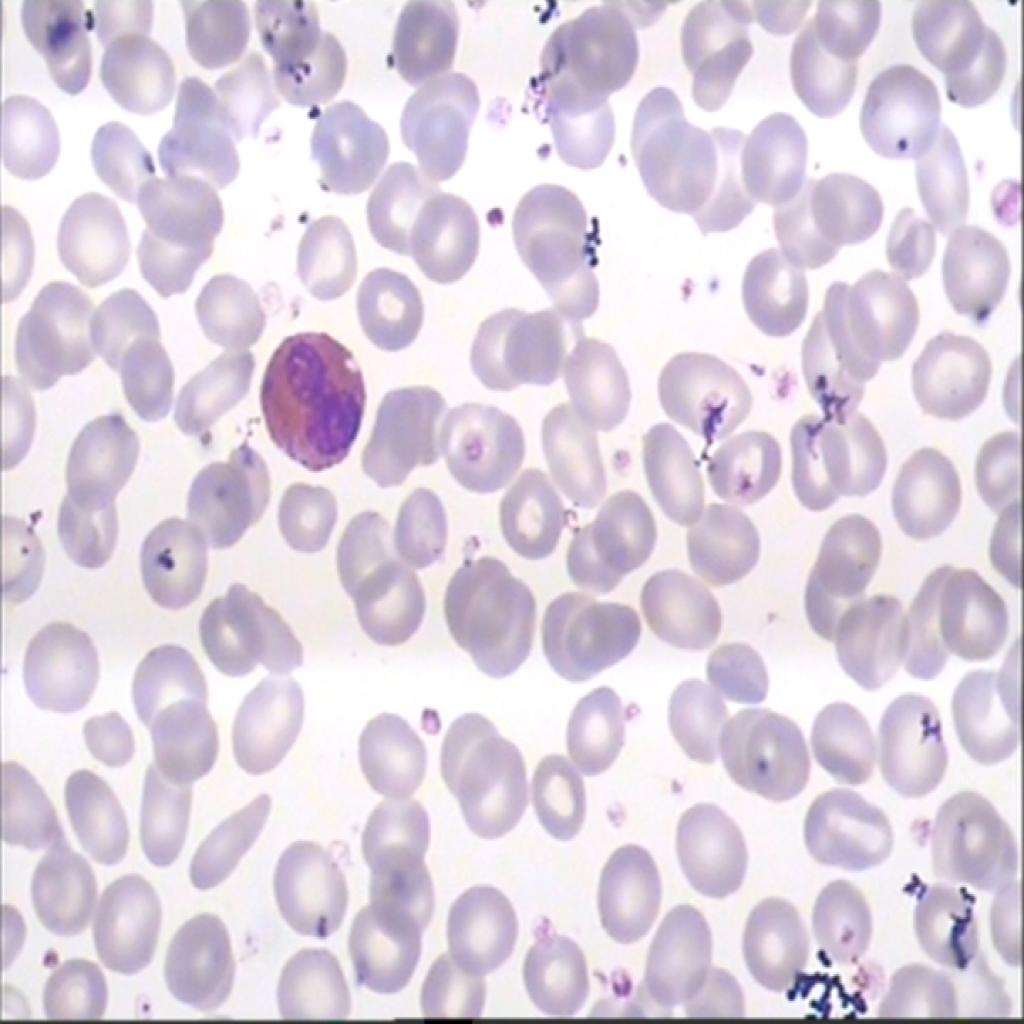Eosinofil: (250, 313, 372, 475)
Platelet: (374, 36, 410, 84), (472, 187, 509, 231), (304, 900, 338, 944), (418, 686, 445, 740), (604, 956, 633, 1002), (287, 190, 319, 228), (607, 432, 633, 473), (528, 128, 552, 167), (894, 117, 918, 155), (302, 90, 328, 122), (703, 270, 731, 295), (673, 266, 691, 298)
